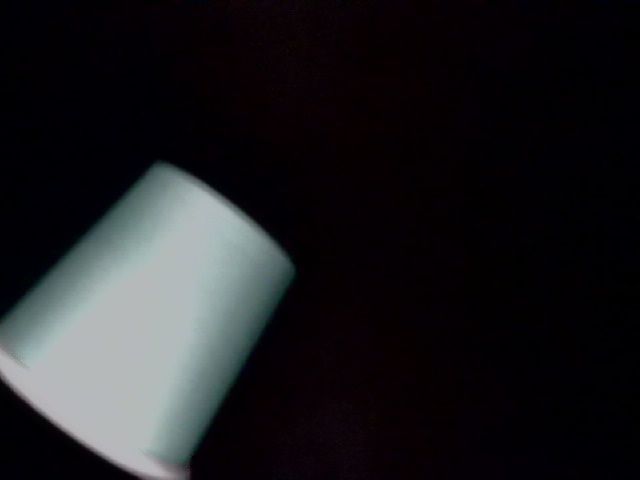KHSLJ: (346, 1, 591, 126)
